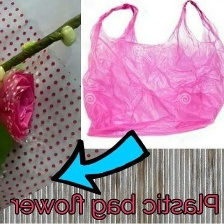plastic_bag: (77, 0, 224, 141)
